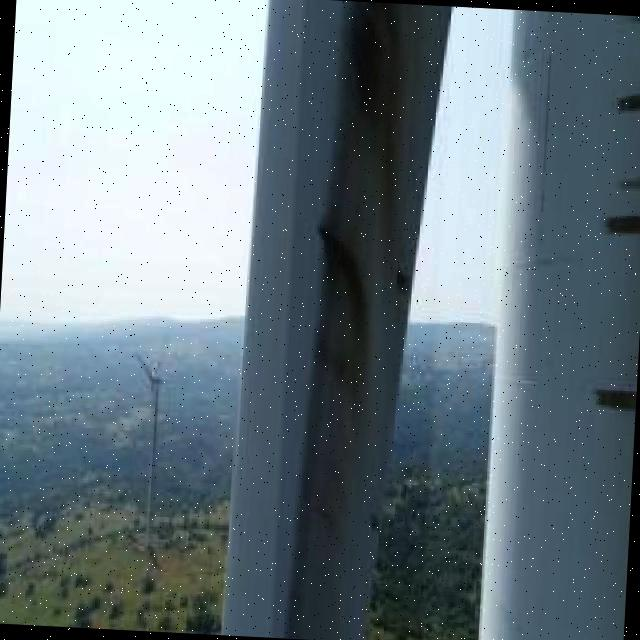Dirt: (294, 0, 412, 639)
Oil LEAKAGE: (317, 214, 351, 269)
Pin Hole: (365, 512, 384, 533), (394, 268, 408, 294), (315, 222, 327, 238)
